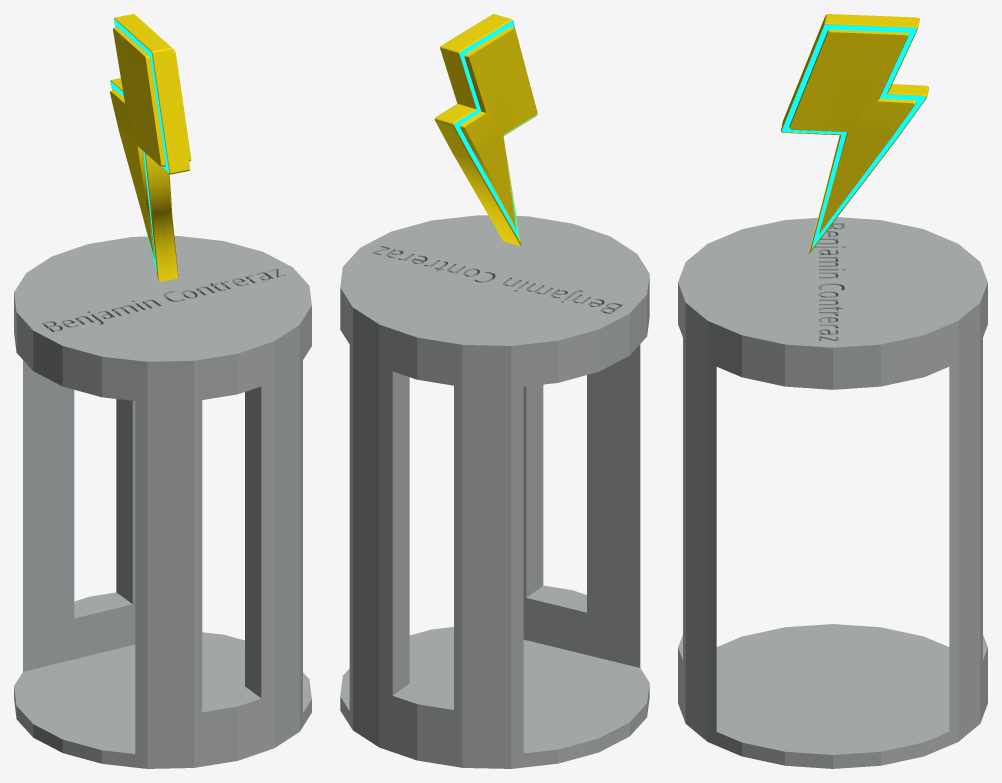
The model's file is charger.glb.
3 renders of one model, left to right at view 1: azimuth 30°, elevation 25°; view 2: azimuth 150°, elevation 25°; view 3: azimuth 270°, elevation 25°, orthographic. The views are drawn at different scales.
Visible parts, largest first — view 1: Mesh_Mesh_head_geo.001_lambert2SG.001, pPlane1; view 2: Mesh_Mesh_head_geo.001_lambert2SG.001, pPlane1; view 3: Mesh_Mesh_head_geo.001_lambert2SG.001, pPlane1.
Boxes of the visible parts, <box> form: Mesh_Mesh_head_geo.001_lambert2SG.001: <box>14,236,311,768</box>; pPlane1: <box>110,14,191,281</box>; Mesh_Mesh_head_geo.001_lambert2SG.001: <box>340,215,649,768</box>; pPlane1: <box>434,14,537,246</box>; Mesh_Mesh_head_geo.001_lambert2SG.001: <box>678,217,987,768</box>; pPlane1: <box>781,14,928,253</box>.
Bounding box in the file's own units: 20 × 48.63 × 20.
